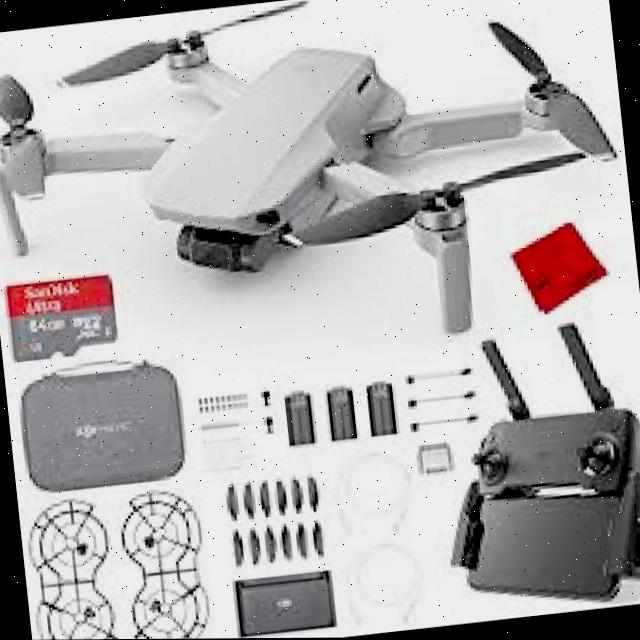drone: (0, 0, 640, 390)
